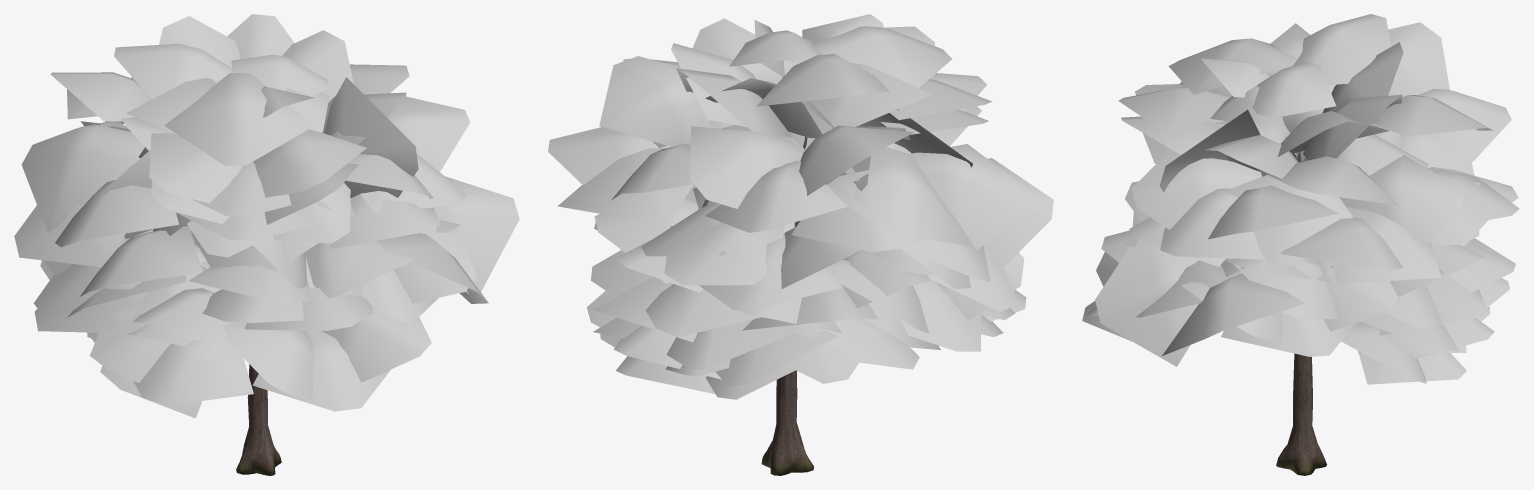
The model's file is Quercus_tree.fbx.
3 views of the same model, side by side, from view 1: azimuth 30°, elevation 25°; view 2: azimuth 150°, elevation 25°; view 3: azimuth 270°, elevation 25° (orthographic). The views are drawn at different scales.
Parts seen in each view (by area): view 1: quercus_LOD0; view 2: quercus_LOD0; view 3: quercus_LOD0.
Boxes of the visible parts, x1,y1,x2,y2 form: quercus_LOD0: (14,14,519,475); quercus_LOD0: (548,14,1053,475); quercus_LOD0: (1082,14,1519,475).
Size of what is drawn, in the model's own units: 1078 by 999 by 969.
